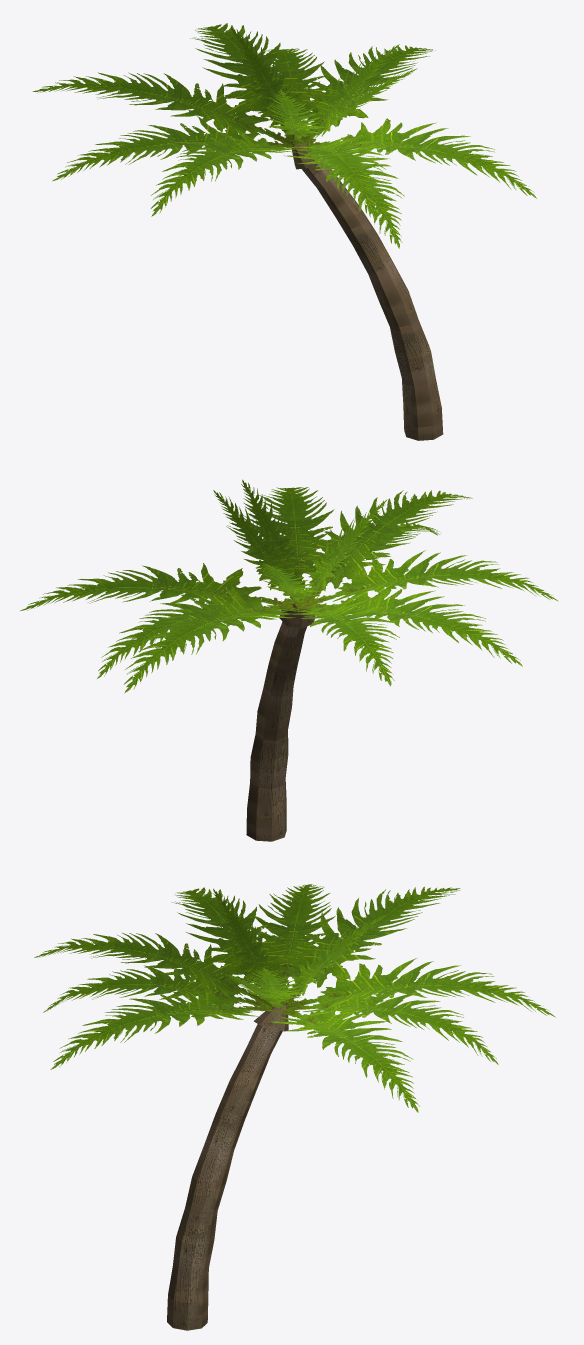
Rendered from palmtree.gltf.
3 views of the same model, one above another, from view 1: azimuth 30°, elevation 25°; view 2: azimuth 150°, elevation 25°; view 3: azimuth 270°, elevation 25° (orthographic). The views are drawn at different scales.
Visible parts, largest first — view 1: palmtree_new; view 2: palmtree_new; view 3: palmtree_new.
Part boxes in pixels (x1,y1,x2,y2): palmtree_new: (32,23,536,440); palmtree_new: (20,479,558,841); palmtree_new: (34,884,555,1330).
Bounding box in the file's own units: 57.1 × 42.1 × 57.1.
Materials: 2 (2 with a texture image).
